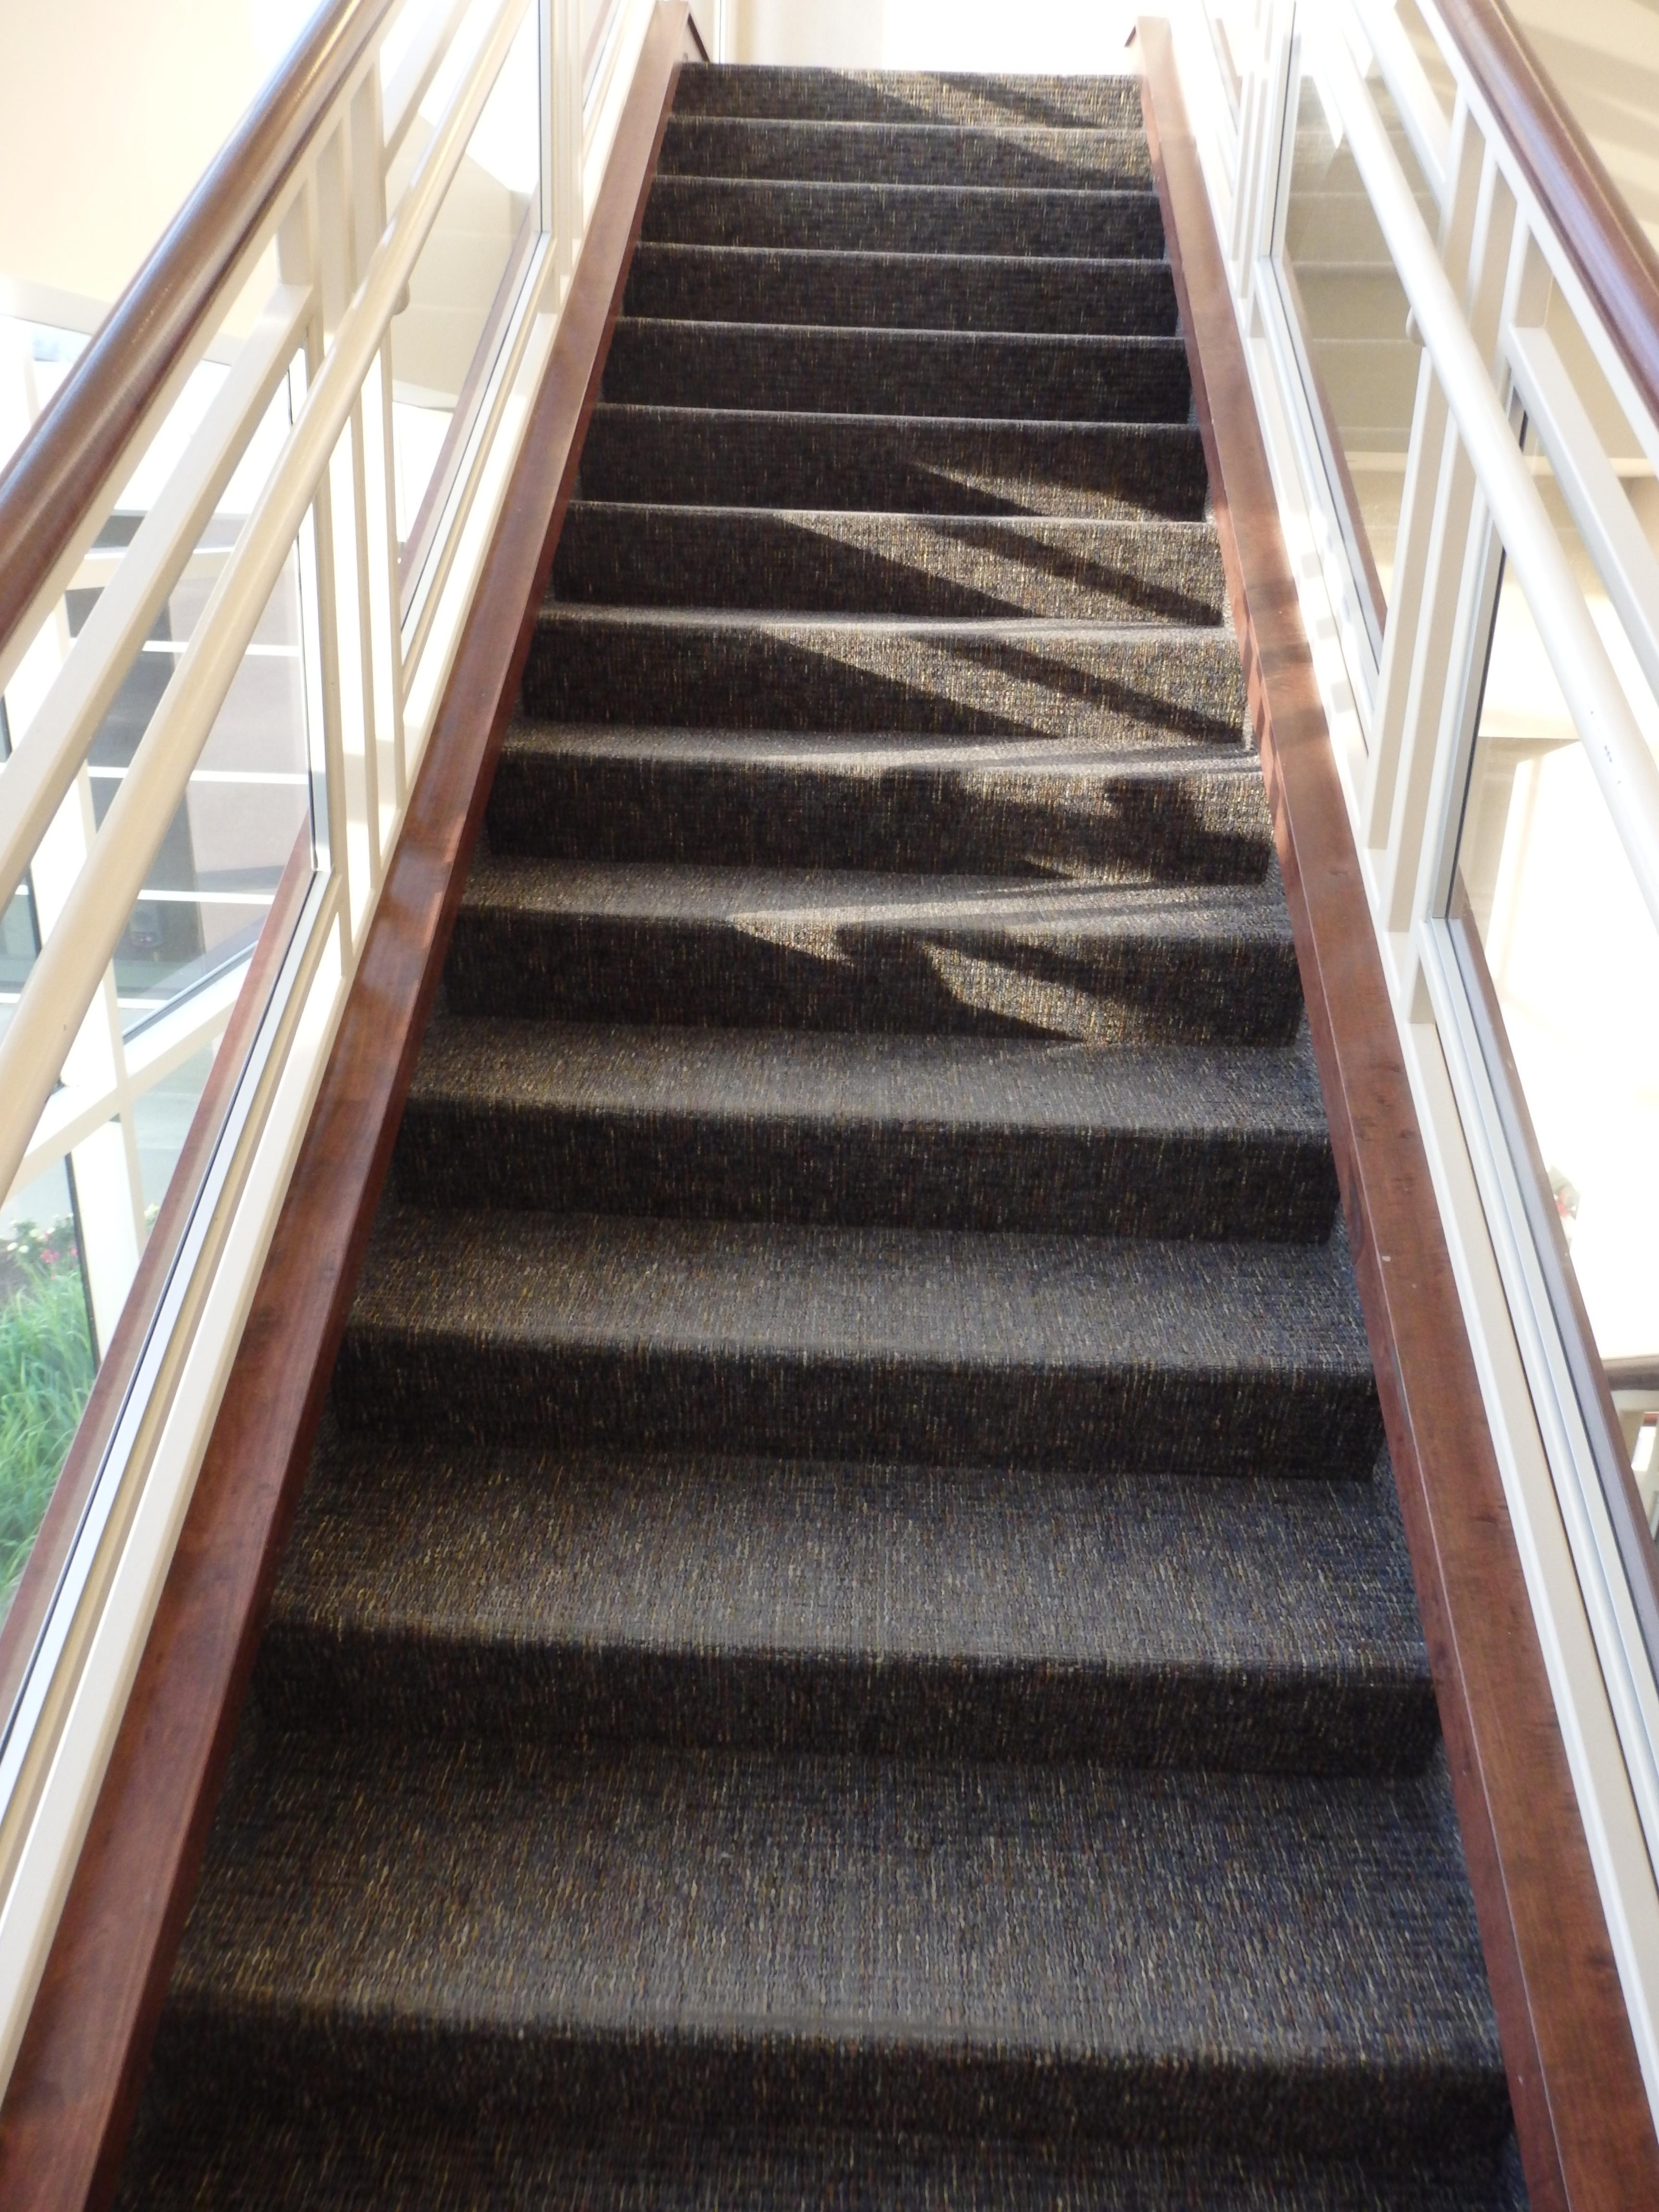stairs_up: (157, 68, 1563, 2087)
